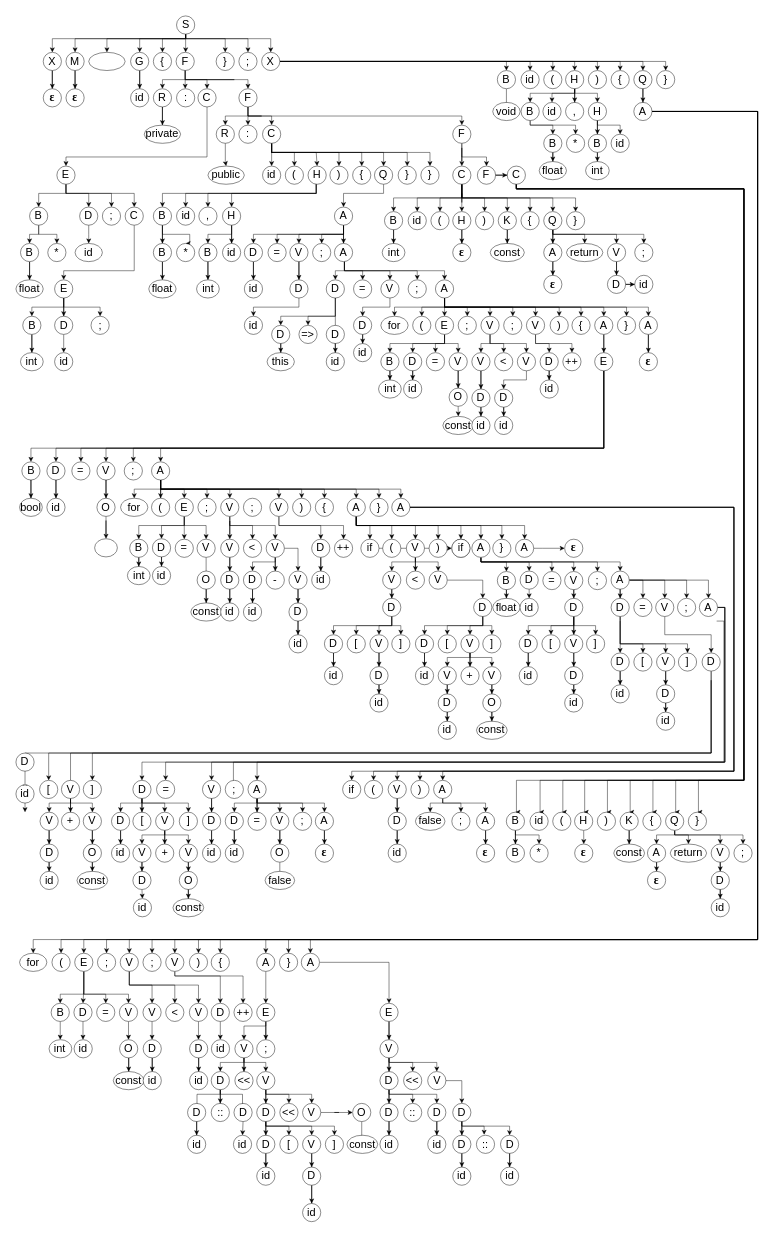
This 779x1238 diagram has some shape labels left out. The shapes that lost their labels are listed below. From the top down, each one's box as (x1, y1, x2, y2) in pixels, then its label:
(88, 52, 125, 70): class
(94, 538, 117, 557): true
